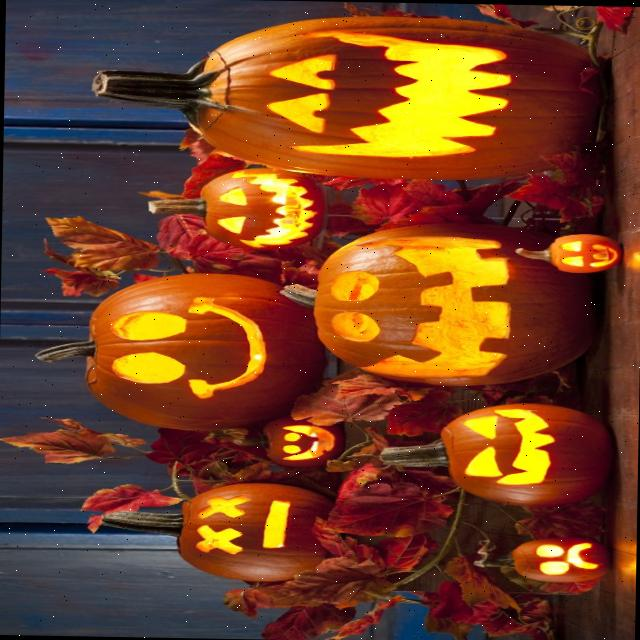pumpkin: (91, 14, 598, 178), (285, 222, 596, 384), (37, 272, 323, 429), (379, 402, 611, 505), (178, 482, 329, 579), (147, 166, 324, 247), (475, 536, 610, 581), (515, 233, 619, 272), (263, 417, 344, 466)
